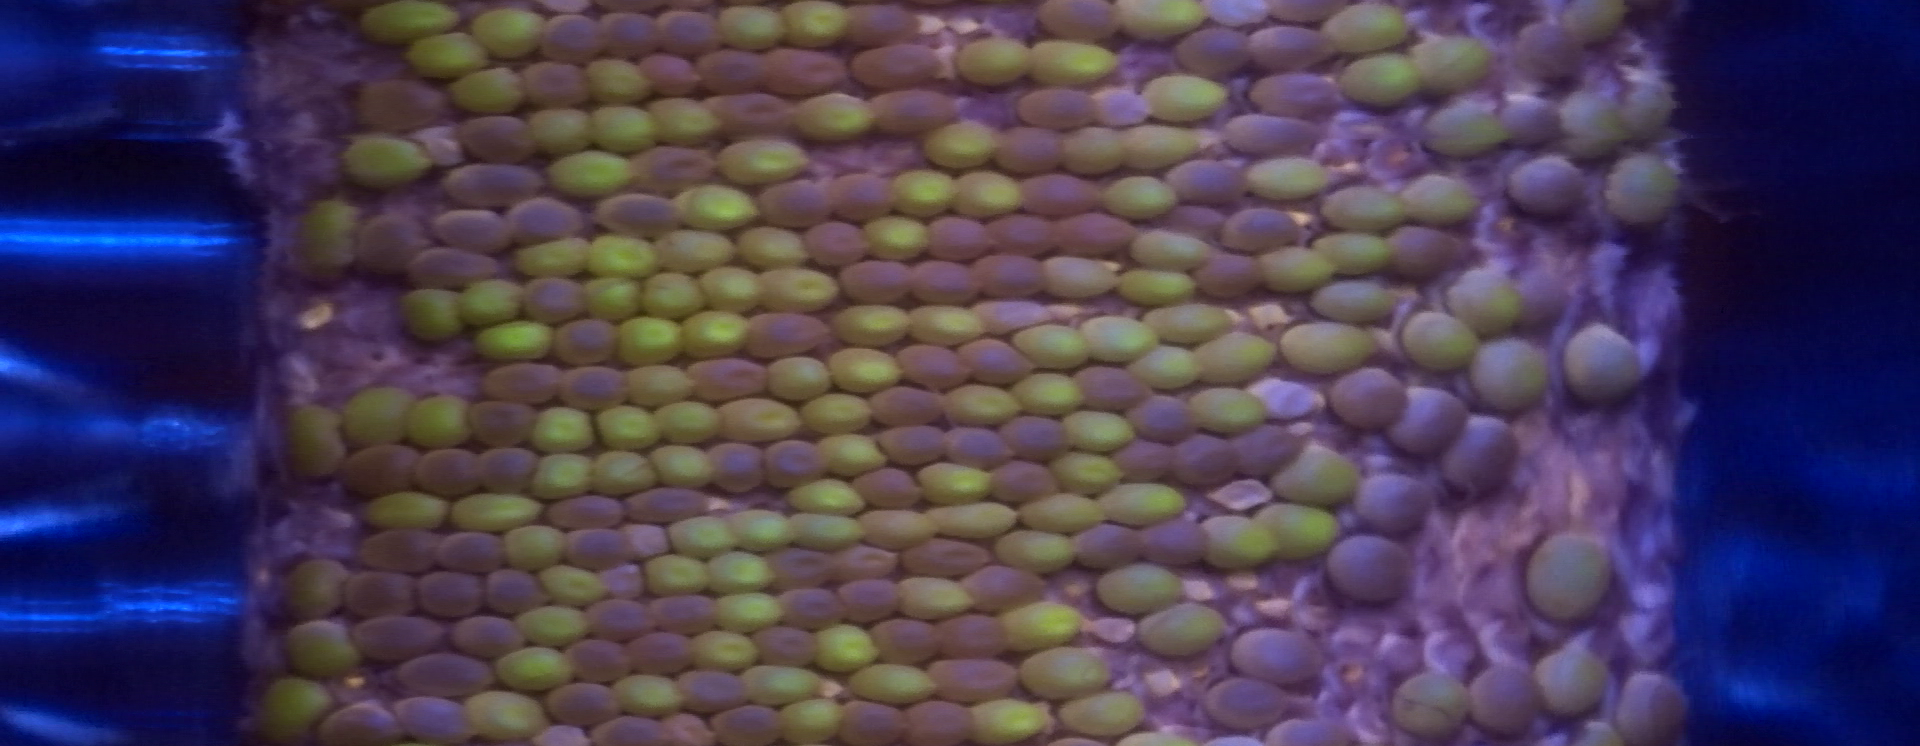fluorescent: (1554, 318, 1659, 403), (1527, 528, 1619, 619), (1613, 145, 1689, 238), (1477, 337, 1554, 414), (1025, 38, 1127, 96), (1418, 99, 1516, 158), (1129, 606, 1234, 660), (1273, 443, 1364, 503), (1408, 38, 1502, 96), (1391, 668, 1471, 735), (1280, 320, 1381, 372), (1555, 88, 1631, 158), (1000, 597, 1093, 653), (298, 198, 358, 284), (1455, 268, 1528, 334), (719, 138, 820, 186), (280, 404, 347, 477), (1187, 334, 1283, 383), (1253, 506, 1340, 560), (542, 149, 638, 198), (287, 619, 362, 680), (842, 661, 948, 706), (451, 490, 558, 533), (1098, 565, 1196, 611), (1400, 176, 1493, 225), (1201, 511, 1282, 567), (1403, 307, 1476, 370), (1004, 367, 1093, 418), (355, 2, 463, 44), (1538, 653, 1613, 713), (921, 496, 1022, 540), (1307, 281, 1408, 325), (1316, 187, 1418, 232), (1024, 646, 1116, 693), (1321, 2, 1411, 51), (587, 230, 673, 281), (954, 38, 1038, 89), (1007, 322, 1097, 370), (345, 134, 433, 183), (1342, 58, 1430, 107), (501, 517, 577, 573), (465, 318, 564, 361), (716, 396, 809, 441), (261, 680, 326, 745), (534, 563, 620, 612), (1078, 312, 1160, 363), (782, 478, 876, 522), (338, 392, 418, 443), (276, 559, 351, 612), (705, 582, 789, 631), (800, 93, 880, 143), (1620, 77, 1680, 145), (1234, 159, 1336, 198), (471, 688, 552, 737), (458, 66, 538, 115), (1188, 387, 1272, 432), (1093, 170, 1173, 218), (969, 697, 1048, 745), (1141, 75, 1229, 118), (927, 120, 998, 173), (1253, 247, 1337, 292), (649, 98, 725, 147), (516, 236, 598, 282), (1018, 492, 1112, 532), (527, 402, 600, 452), (1142, 303, 1233, 343), (1063, 407, 1139, 454), (1307, 232, 1393, 273), (587, 105, 660, 154), (862, 214, 936, 263), (471, 9, 549, 55), (580, 60, 658, 107), (453, 274, 530, 321), (353, 492, 453, 528), (938, 383, 1026, 424), (500, 643, 578, 688), (402, 282, 463, 339), (531, 448, 593, 506), (1111, 266, 1198, 306), (954, 171, 1029, 218), (758, 265, 833, 311), (415, 34, 493, 78), (405, 393, 474, 443), (1120, 1, 1213, 38), (704, 551, 789, 592), (793, 391, 874, 432), (1063, 692, 1146, 733), (898, 578, 981, 619), (1128, 345, 1206, 388), (813, 620, 877, 673), (786, 1, 856, 49), (529, 103, 595, 153), (676, 187, 758, 228), (1127, 229, 1209, 269), (1117, 126, 1199, 167), (838, 301, 915, 344), (733, 220, 804, 267), (700, 265, 768, 314), (830, 348, 902, 393), (583, 273, 648, 323), (623, 366, 697, 410), (729, 503, 795, 552), (891, 171, 960, 218), (658, 229, 738, 268), (909, 306, 984, 348), (1097, 483, 1180, 521), (789, 508, 863, 550), (1560, 1, 1629, 47), (620, 316, 680, 367), (588, 448, 658, 492), (642, 442, 711, 486), (913, 461, 991, 500), (818, 431, 888, 474), (598, 403, 662, 448), (683, 312, 752, 355), (773, 356, 833, 405), (996, 533, 1073, 571), (1043, 454, 1119, 492), (740, 663, 817, 699), (520, 600, 593, 639), (720, 7, 791, 47), (669, 518, 737, 559), (643, 274, 709, 316), (696, 627, 762, 669), (655, 403, 722, 443), (613, 673, 683, 710), (642, 556, 715, 590), (1069, 125, 1127, 168), (778, 696, 838, 736)
nonfluorescent: (1434, 413, 1522, 492), (358, 75, 460, 135), (1329, 528, 1411, 601), (1613, 670, 1693, 740), (1463, 666, 1540, 737), (392, 650, 500, 699), (1392, 383, 1469, 451), (355, 612, 457, 663), (1229, 627, 1322, 681), (1319, 370, 1404, 428), (443, 160, 555, 205), (414, 565, 495, 624), (852, 42, 945, 92), (1220, 114, 1333, 154), (1070, 363, 1158, 414), (711, 87, 800, 138), (334, 445, 429, 492), (594, 189, 683, 239), (823, 169, 898, 229), (756, 176, 842, 228), (349, 568, 430, 624), (409, 244, 502, 292), (1354, 475, 1438, 528), (393, 693, 478, 745), (1226, 423, 1298, 481), (359, 529, 452, 575), (763, 47, 849, 96), (354, 209, 422, 271), (1515, 22, 1584, 82), (457, 114, 538, 165), (988, 213, 1073, 262), (1248, 72, 1338, 118), (1201, 677, 1286, 725), (835, 256, 918, 304), (408, 443, 489, 492), (873, 89, 962, 134), (928, 652, 1013, 698), (318, 699, 403, 746), (504, 194, 587, 241), (542, 680, 626, 726), (1139, 517, 1213, 568), (692, 354, 776, 399), (1498, 89, 1562, 148), (1109, 432, 1187, 481), (743, 310, 829, 354), (1168, 158, 1251, 203), (433, 206, 514, 252), (869, 611, 940, 664), (474, 440, 539, 497), (1051, 212, 1140, 254), (643, 590, 722, 637), (1000, 412, 1069, 465), (1231, 205, 1308, 252), (842, 1, 923, 47), (1386, 225, 1451, 282), (672, 660, 744, 710), (971, 252, 1051, 298), (967, 294, 1056, 334), (1070, 522, 1149, 567), (773, 586, 849, 632), (961, 565, 1043, 608), (987, 458, 1067, 502), (920, 213, 993, 261), (1507, 153, 1582, 200), (518, 60, 593, 107), (1245, 27, 1329, 69), (1021, 170, 1104, 212), (1173, 436, 1240, 488), (636, 145, 716, 187), (485, 563, 553, 614), (707, 441, 769, 496), (909, 258, 984, 304), (829, 577, 902, 624), (932, 617, 1016, 658), (534, 10, 605, 58), (874, 423, 955, 464), (901, 343, 973, 390), (557, 363, 626, 412), (1037, 1, 1125, 39), (1173, 28, 1253, 70), (438, 532, 516, 575), (960, 339, 1033, 383), (994, 125, 1062, 173), (486, 360, 563, 402), (451, 612, 525, 655), (713, 703, 787, 746), (898, 535, 984, 572), (618, 488, 711, 522), (1013, 88, 1093, 127), (556, 318, 623, 365), (748, 620, 816, 666), (756, 435, 820, 483), (841, 698, 905, 746), (1191, 252, 1269, 292), (564, 523, 629, 570), (596, 9, 662, 54), (469, 401, 535, 446), (659, 9, 722, 55), (638, 50, 702, 97), (853, 465, 922, 508), (831, 543, 906, 582), (522, 277, 588, 321), (906, 703, 973, 746), (588, 599, 659, 639), (549, 492, 631, 527), (568, 638, 636, 680), (871, 385, 944, 423), (699, 50, 765, 92), (942, 428, 1013, 465), (634, 630, 691, 677), (806, 220, 868, 263), (765, 545, 829, 587), (1131, 392, 1187, 439), (587, 717, 670, 746), (1271, 717, 1330, 746), (1269, 1, 1347, 22), (536, 722, 594, 746)
